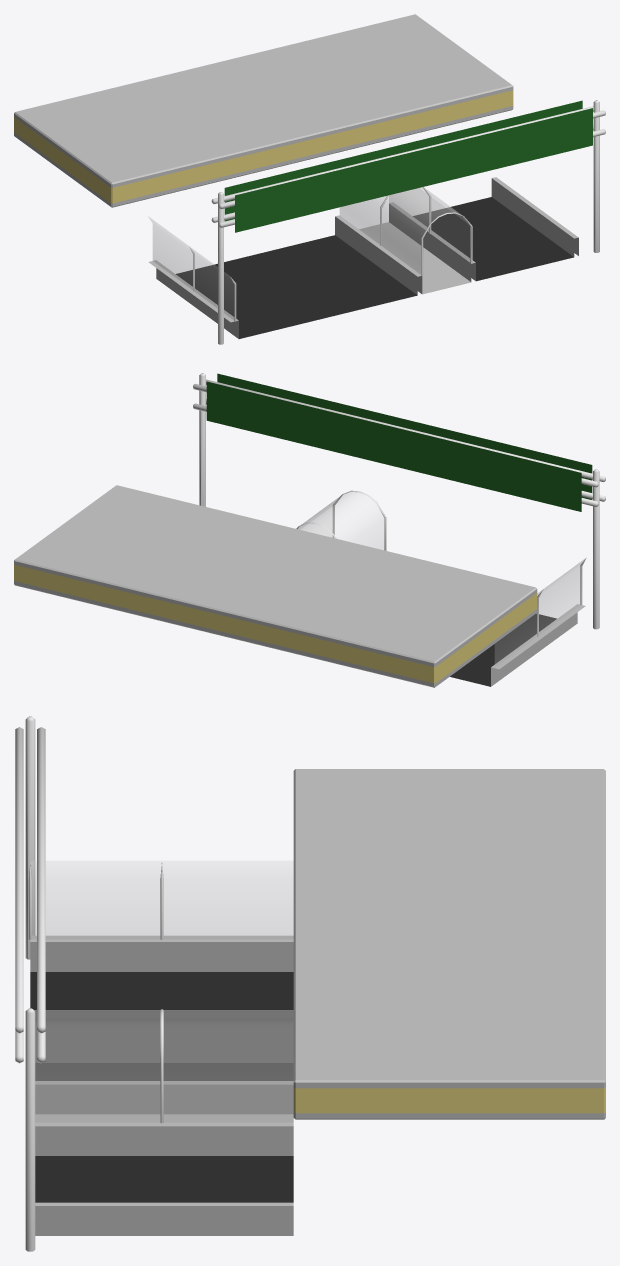
Rendered from GamesE_E03_PuentePiezas.fbx.
The picture shows the model from 3 angles, top to bottom: view 1: azimuth 30°, elevation 25°; view 2: azimuth 150°, elevation 25°; view 3: azimuth 270°, elevation 25°; orthographic projection. The views are drawn at different scales.
Visible parts, largest first — view 1: Techo, PiezaPuente, Letrerote, Reja Peatonal, Reja, Barda Puente; view 2: Techo, Letrerote, Reja Peatonal, Reja, PiezaPuente, Barda Puente; view 3: Techo, PiezaPuente, Reja Peatonal, Reja, Letrerote, Barda Puente.
Part boxes in pixels (bbox=[...]): Techo: bbox=[14, 14, 513, 207]; PiezaPuente: bbox=[176, 177, 578, 338]; Letrerote: bbox=[211, 100, 605, 344]; Reja Peatonal: bbox=[340, 153, 472, 275]; Reja: bbox=[148, 216, 236, 321]; Barda Puente: bbox=[148, 260, 238, 338]; Techo: bbox=[14, 485, 537, 687]; Letrerote: bbox=[193, 373, 605, 629]; Reja Peatonal: bbox=[296, 490, 386, 550]; Reja: bbox=[495, 558, 586, 667]; PiezaPuente: bbox=[450, 613, 556, 686]; Barda Puente: bbox=[491, 604, 585, 686]; Techo: bbox=[293, 769, 605, 1119]; PiezaPuente: bbox=[30, 972, 293, 1235]; Reja Peatonal: bbox=[34, 1009, 293, 1123]; Reja: bbox=[28, 861, 293, 939]; Letrerote: bbox=[15, 716, 45, 1251]; Barda Puente: bbox=[30, 935, 293, 971].
Bounding box in the file's own units: 22.79 × 18 × 8.07.
